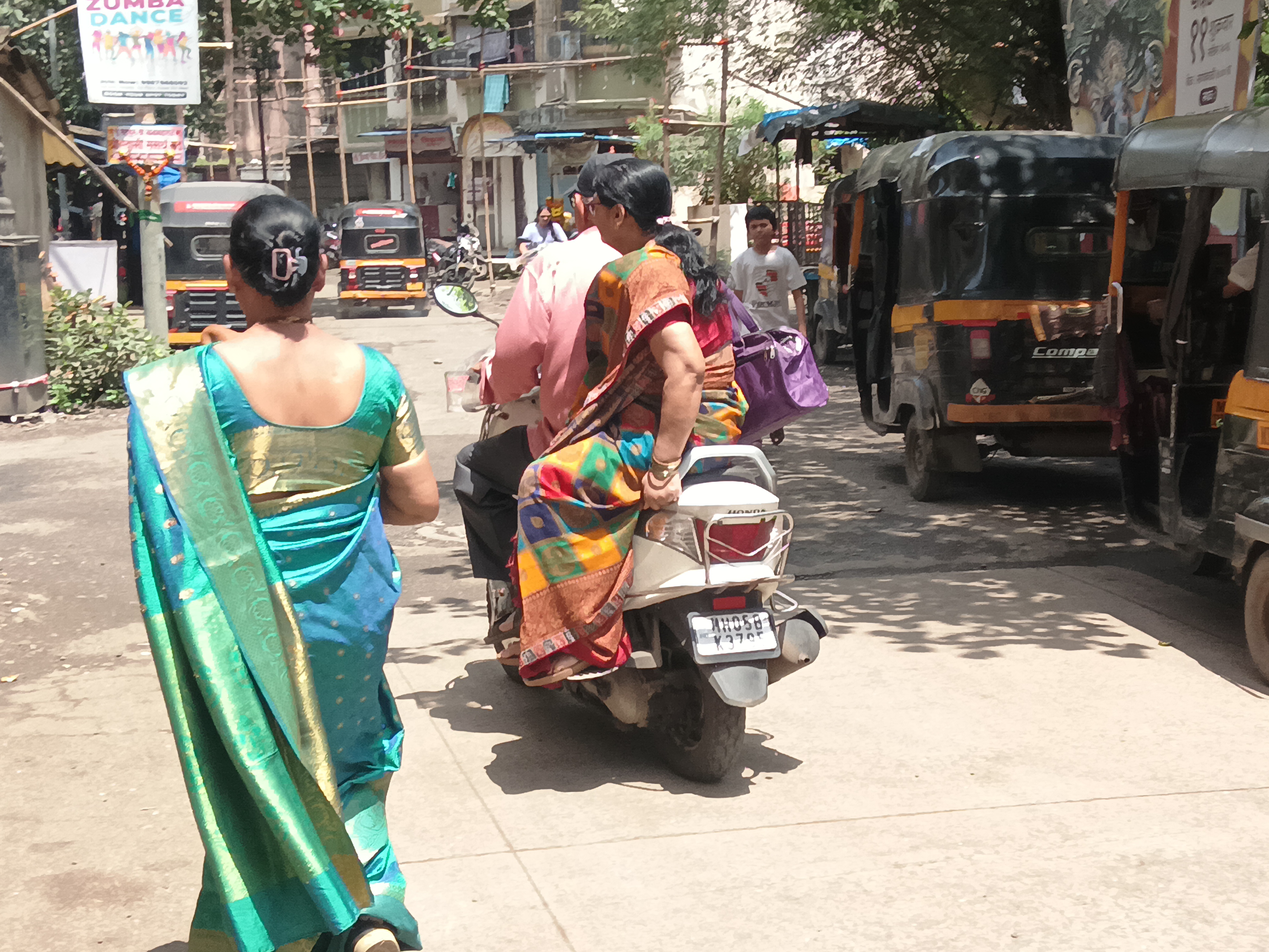vehicle: (689, 611, 778, 658)
